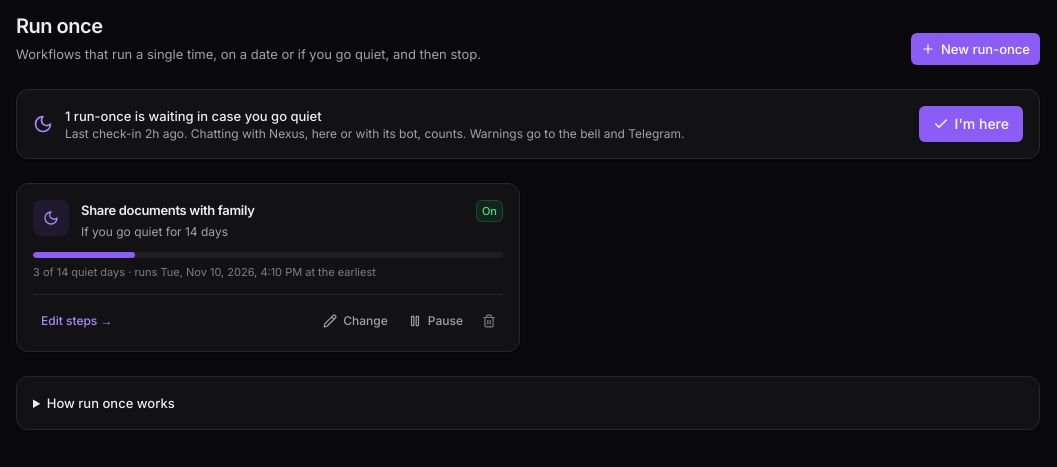
Scenario: I'm here checks in and says so
Click the button "I'm here" at point(971, 124), box [919, 106, 1023, 142]
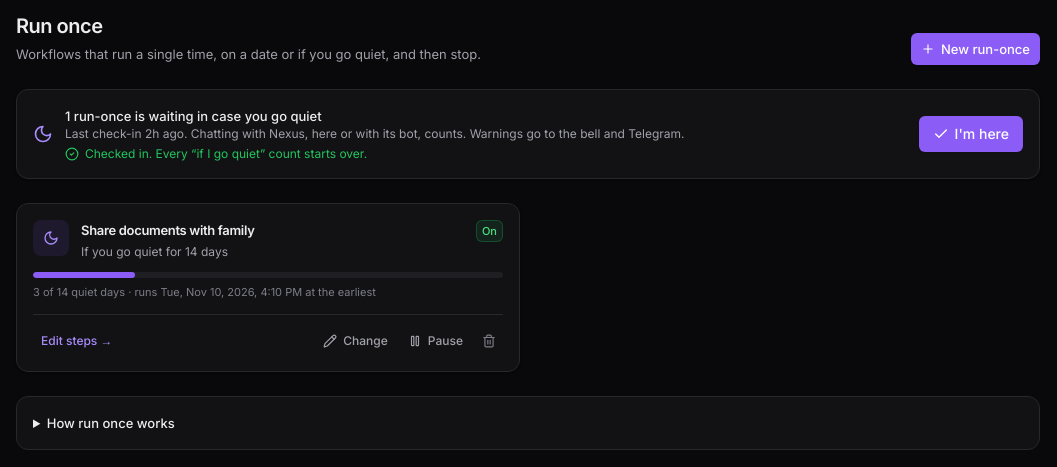
Now the message shows "Checked in", box [85, 146, 367, 161]
